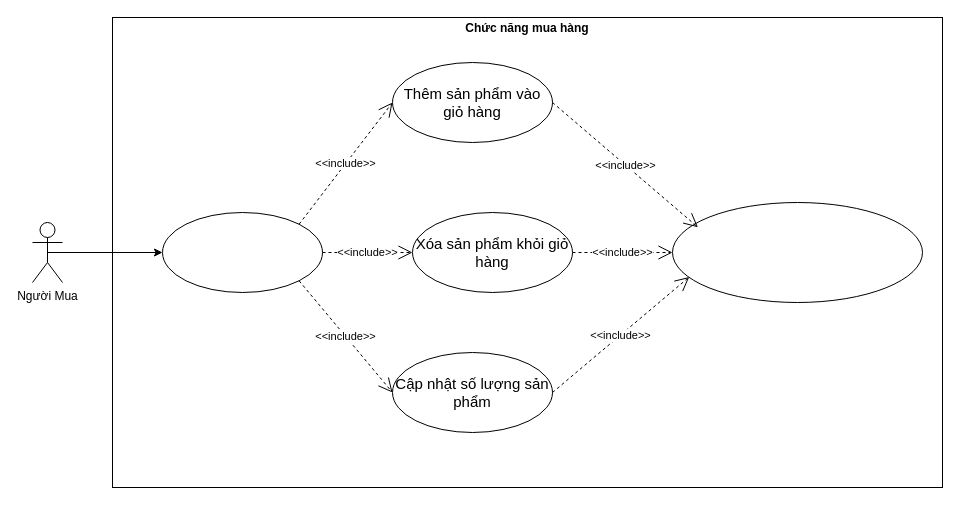
Image size: 960x505. Some labels were removed from this diagram. The box of each missing label's shape, as (x1, y1, x2, y2) in pixels:
Hệ thống tự động tính tổng tiền của giỏ hàng: (672, 202, 922, 302)
Mua hàng: (162, 212, 322, 292)
